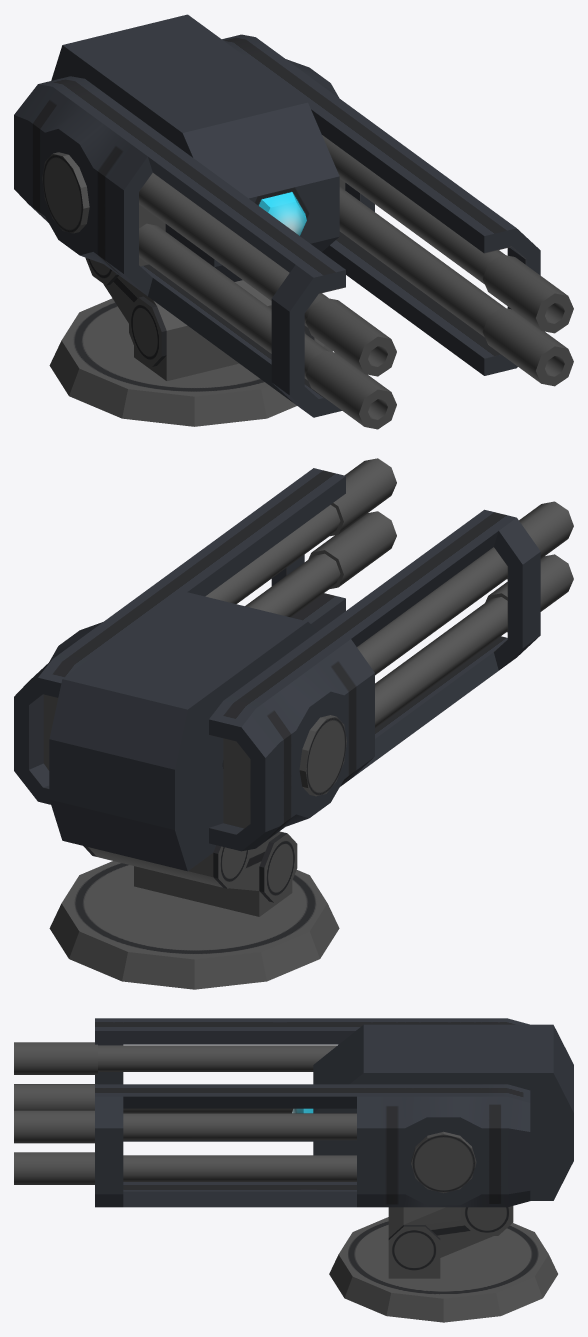
The model's file is Weapon_Autogun.fbx.
The picture shows the model from 3 angles, top to bottom: view 1: azimuth 30°, elevation 25°; view 2: azimuth 150°, elevation 25°; view 3: azimuth 270°, elevation 25°; orthographic projection. The views are drawn at different scales.
Visible parts, largest first — view 1: Weapon_Autogun:Weapon_Autogun1; view 2: Weapon_Autogun:Weapon_Autogun1; view 3: Weapon_Autogun:Weapon_Autogun1.
Boxes of the visible parts, x1,y1,x2,y2 form: Weapon_Autogun:Weapon_Autogun1: [14, 14, 573, 429]; Weapon_Autogun:Weapon_Autogun1: [14, 458, 573, 989]; Weapon_Autogun:Weapon_Autogun1: [14, 1018, 573, 1322].
Size of the model in its own units: 170 by 175 by 395.
